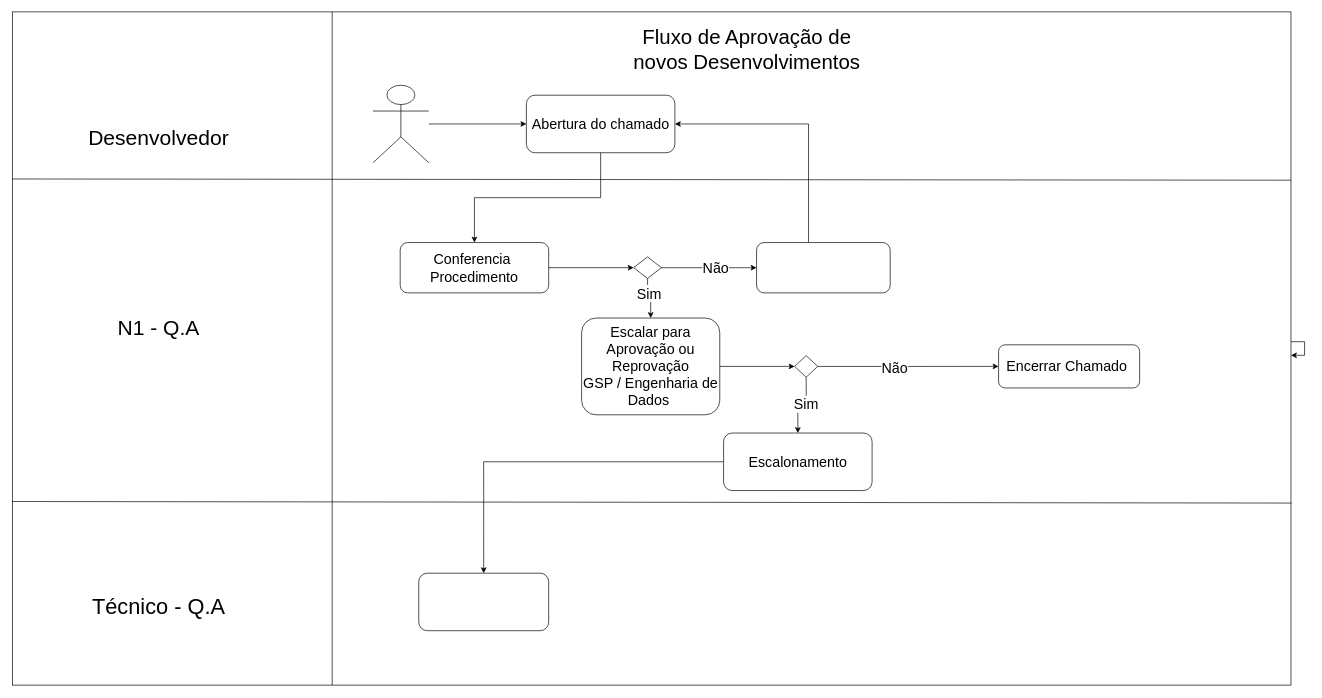
The diagram is 1322 pixels wide and 698 high, and some of its shapes have lost their labels. The shapes that lost their labels are listed below. From the top down, each one's centre as x and y in pixels, then its label:
At (x=400, y=124): "Actor".
At (x=823, y=267): "Retorno do Chamado c/procedimento".
At (x=483, y=601): "Avaliação Q.A".
